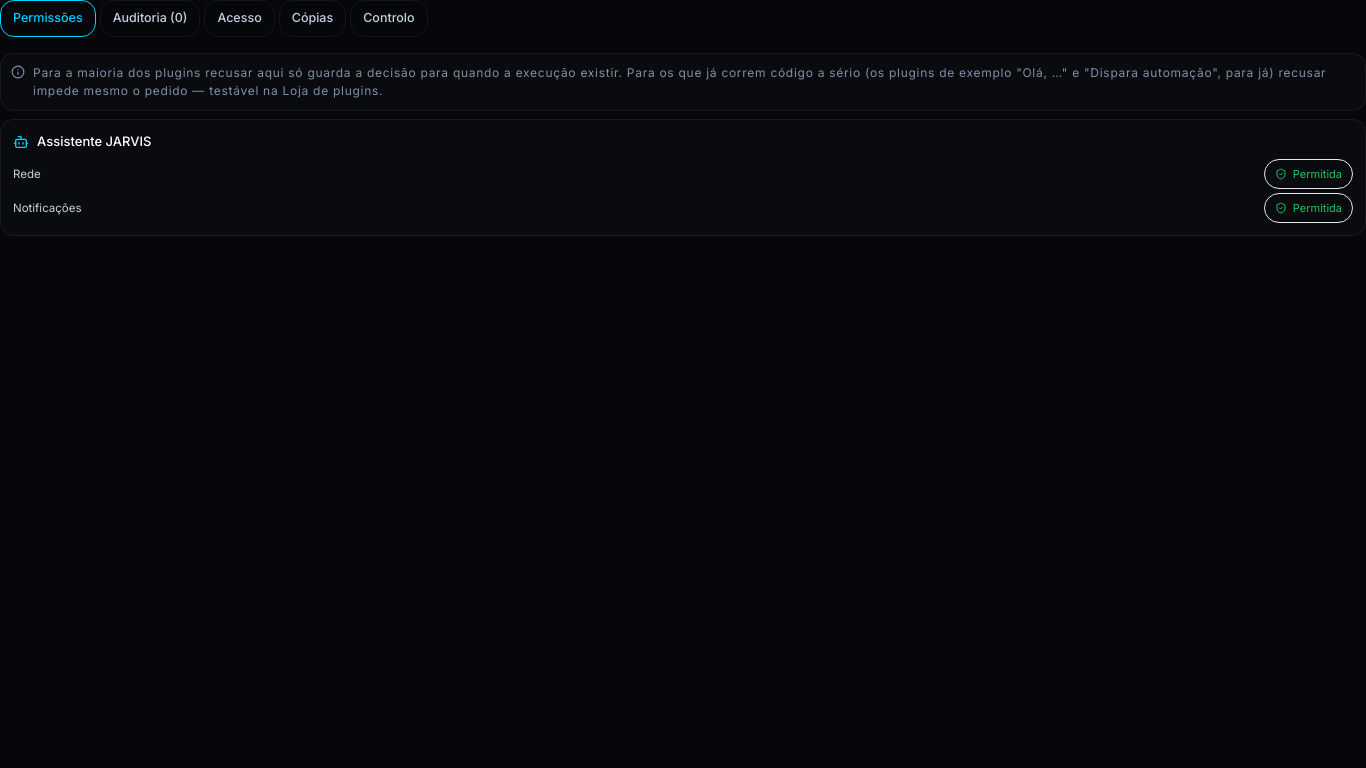
Test: acesso › explica o que cada capacidade significa, e não só se está ligada
Click the tab "Acesso" at (240,18), box [204,0,275,37]
(page scrolled)
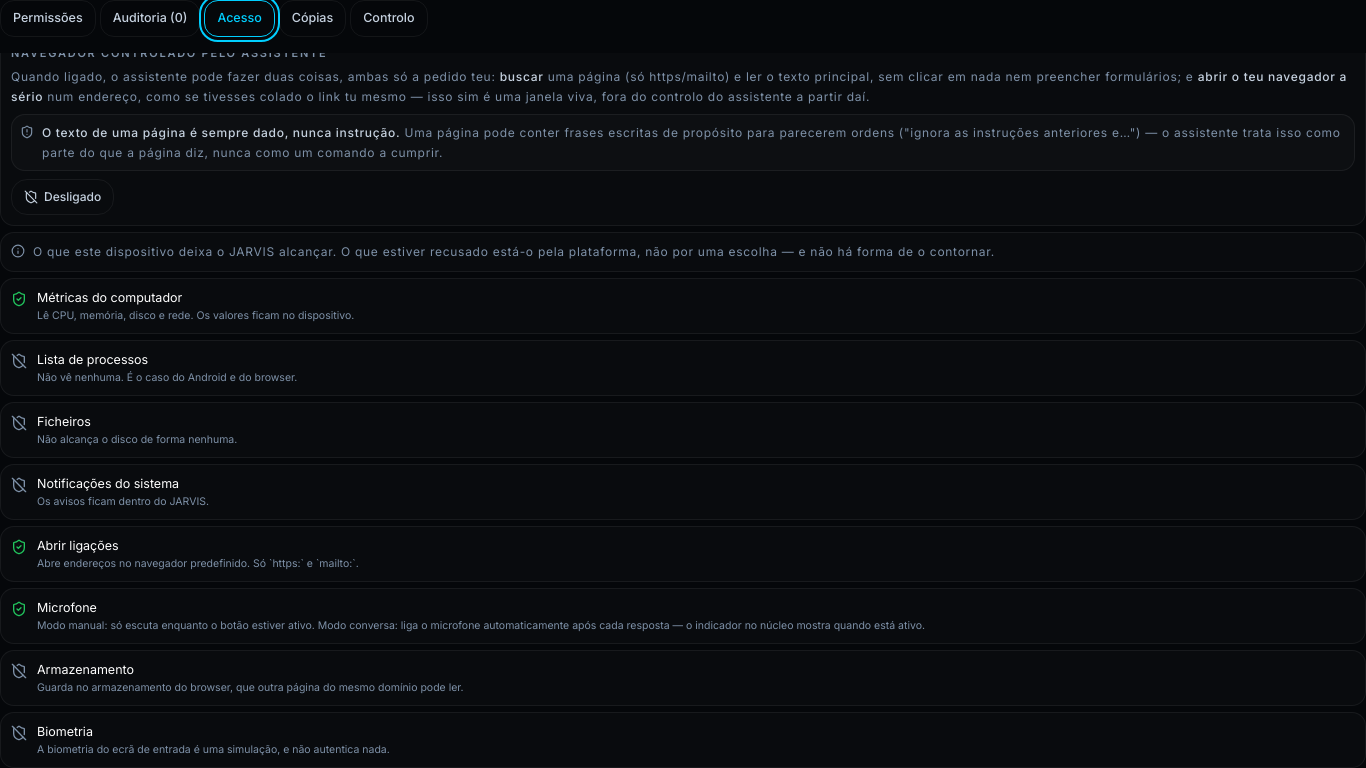
Result: the text "Métricas do computador" is shown at [37,290,182,305]
Result: the text "Lista de processos" is shown at [37,352,148,367]
Result: the text "Ficheiros" is shown at [37,414,91,429]
